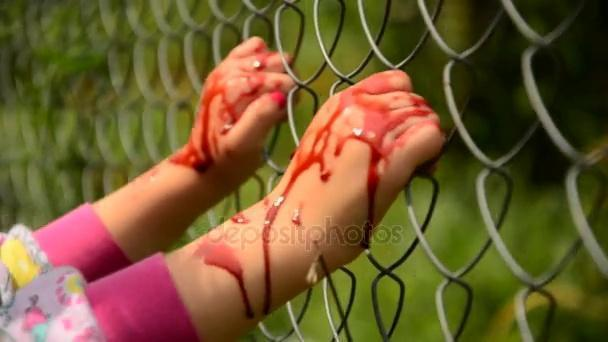Fire: (262, 71, 441, 316), (169, 37, 291, 172), (195, 241, 255, 318), (291, 208, 303, 226), (231, 213, 250, 224)
